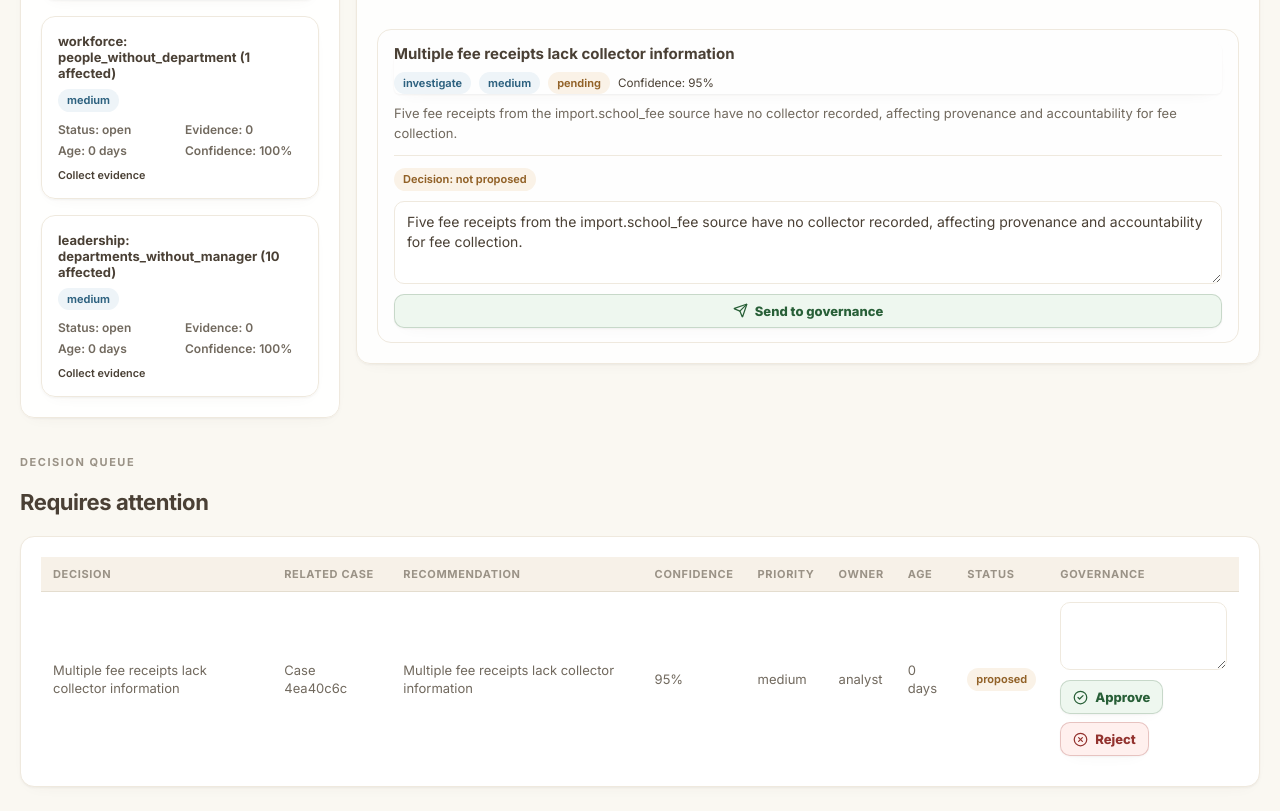
it: Deliberation workspace — Fee Intelligence card › rejects a queued decision only with a governance note
The width and height of the screenshot is (1280, 811).
(page scrolled)
expect the text "Decision Queue" is shown: met, box [20,455,135,469]
Click the button "Reject" at point(1105, 740), box [1060,722,1149,756]
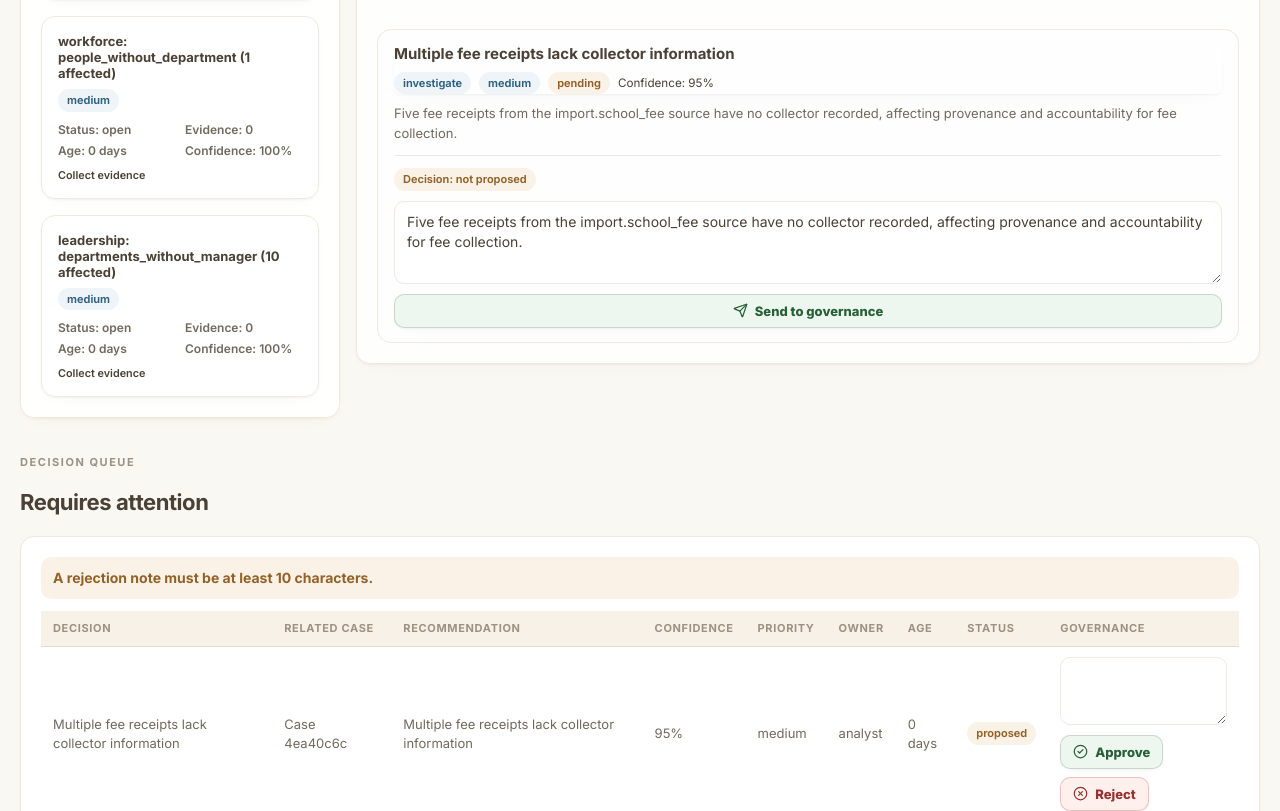
expect the text "A rejection note must be at least 10 characters." is shown: met, box [41,557,1239,599]
Type "Declined after reviewing the cited evidence." into the text box named "Governance note for Multiple fee receipts lack collector inf" at point(1144, 691), box [1060,657,1227,725]
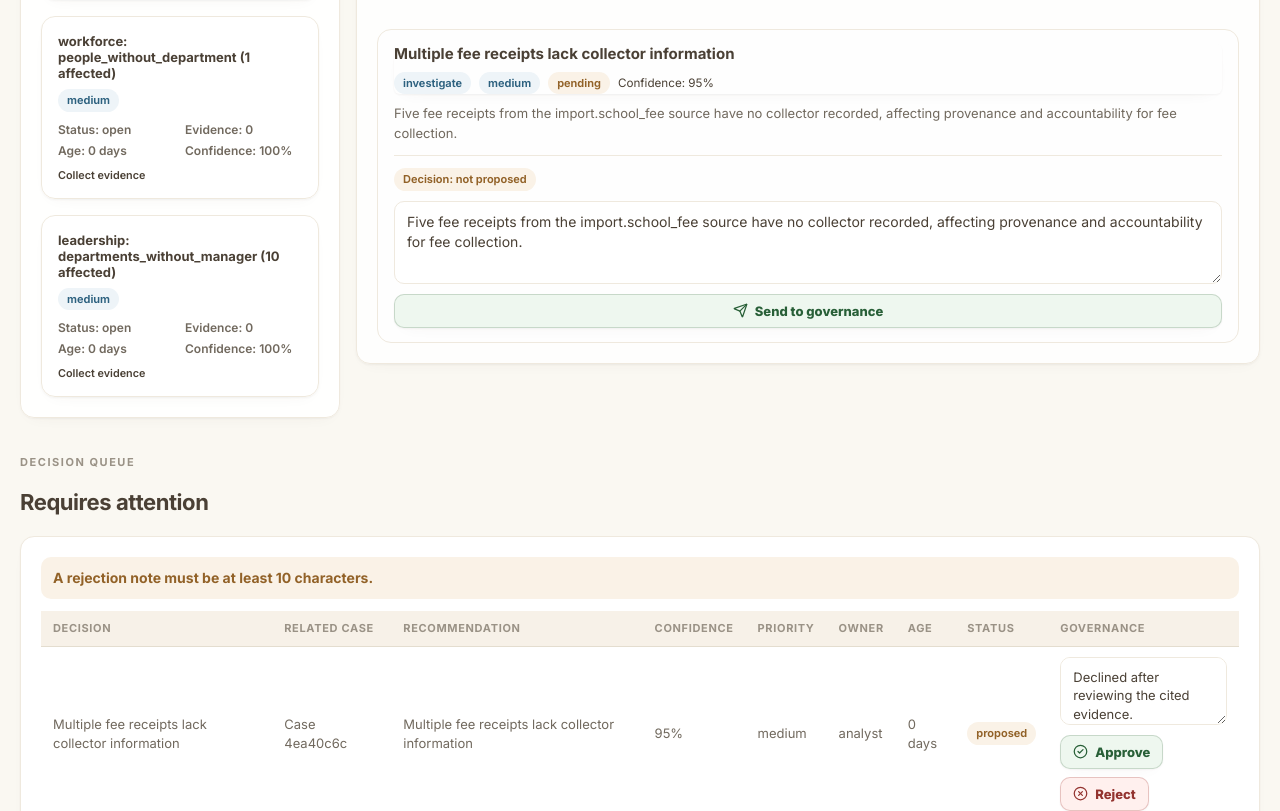
Click the button "Reject" at point(1105, 794), box [1060,777,1149,810]
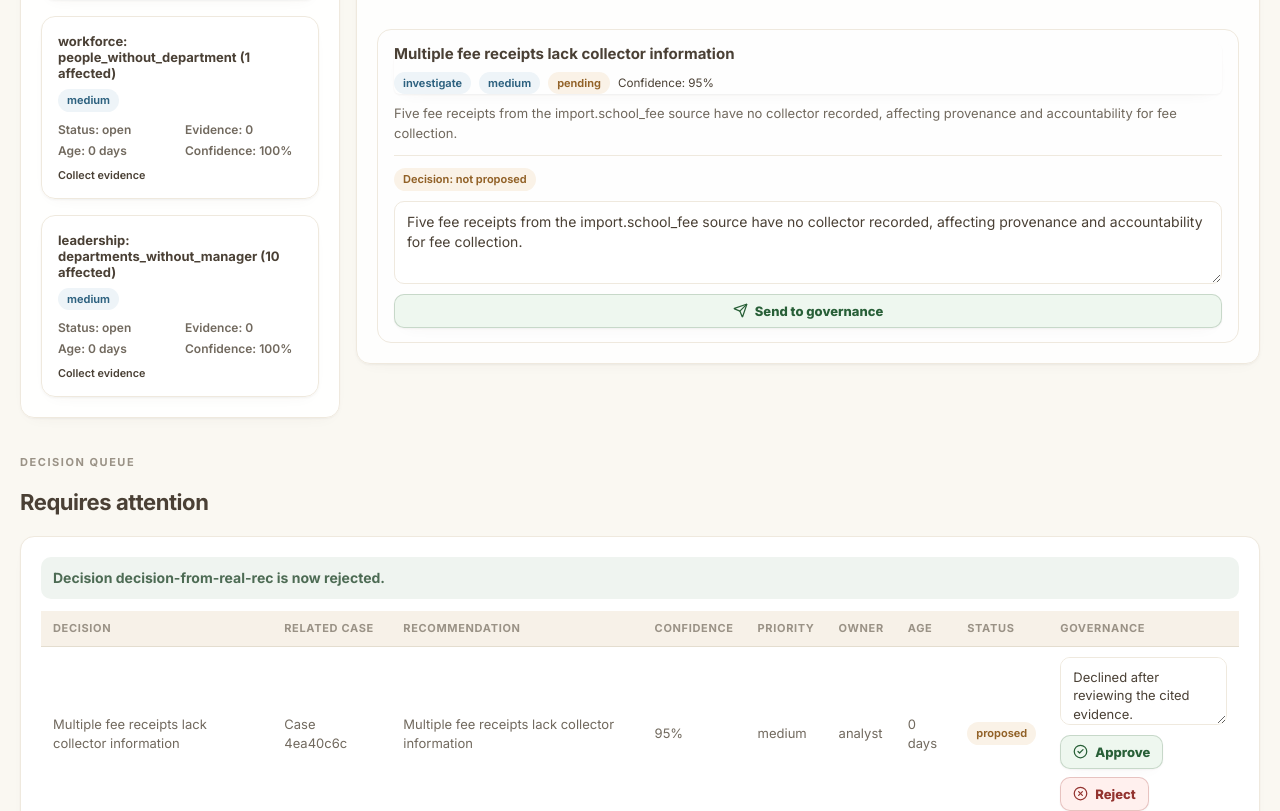
expect the text "Decision decision-from-real-rec is now rejected." is shown: met, box [41,557,1239,599]
